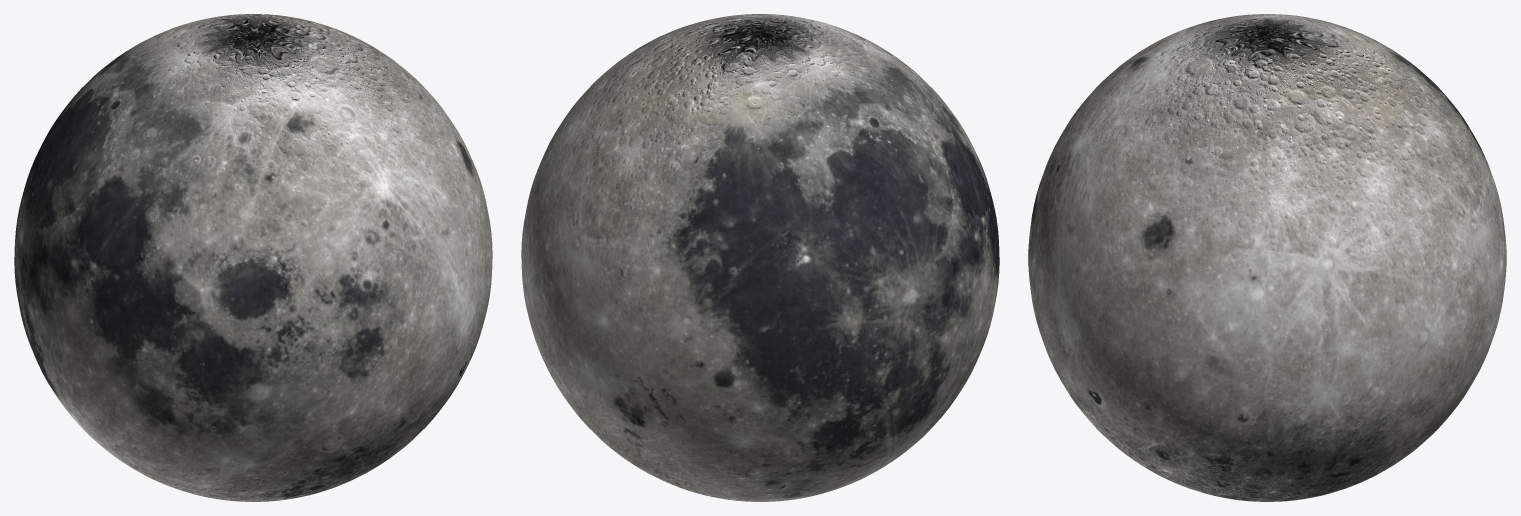
The model's file is moon.obj.
3 renders of one model, left to right at view 1: azimuth 30°, elevation 25°; view 2: azimuth 150°, elevation 25°; view 3: azimuth 270°, elevation 25°, orthographic.
Visible parts, largest first — view 1: Plane; view 2: Plane; view 3: Plane.
Boxes of the visible parts, x1,y1,x2,y2 form: Plane: (14, 14, 492, 501); Plane: (521, 14, 999, 501); Plane: (1028, 14, 1506, 501).
Size of the model in its own units: 1.94 by 1.99 by 1.94.
1 material, 1 textured.
